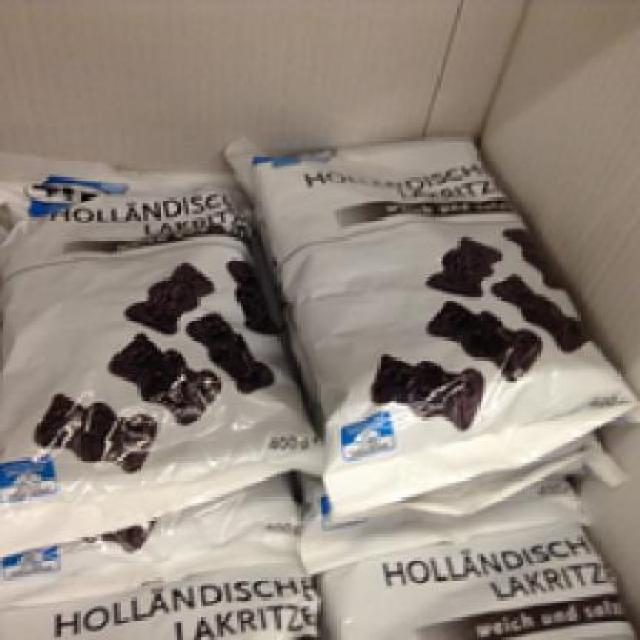Candy: (222, 128, 635, 508), (0, 150, 289, 566)
